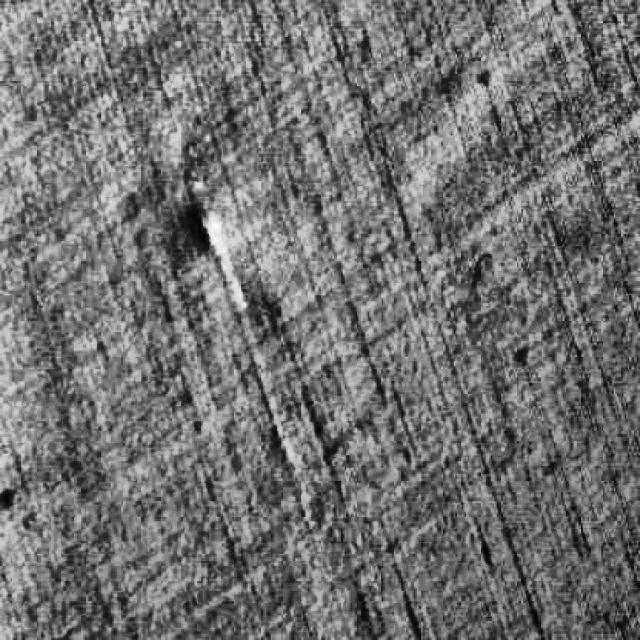thread_error: (181, 183, 337, 536)
